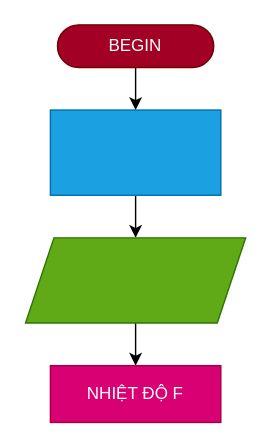
Image size: 270x447. Some labels were removed from this diagram. Here are the shapes that lost their labels. From the top down, the centre of each, then its label:
the point at 135,152: INPUT C
the point at 135,279: F = ( 9 * C ) / 5 +32
